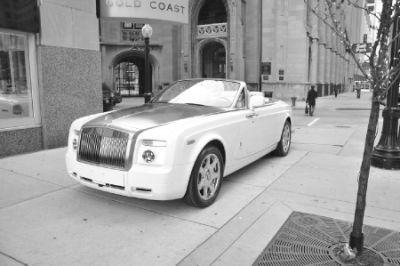car: (68, 76, 295, 209)
